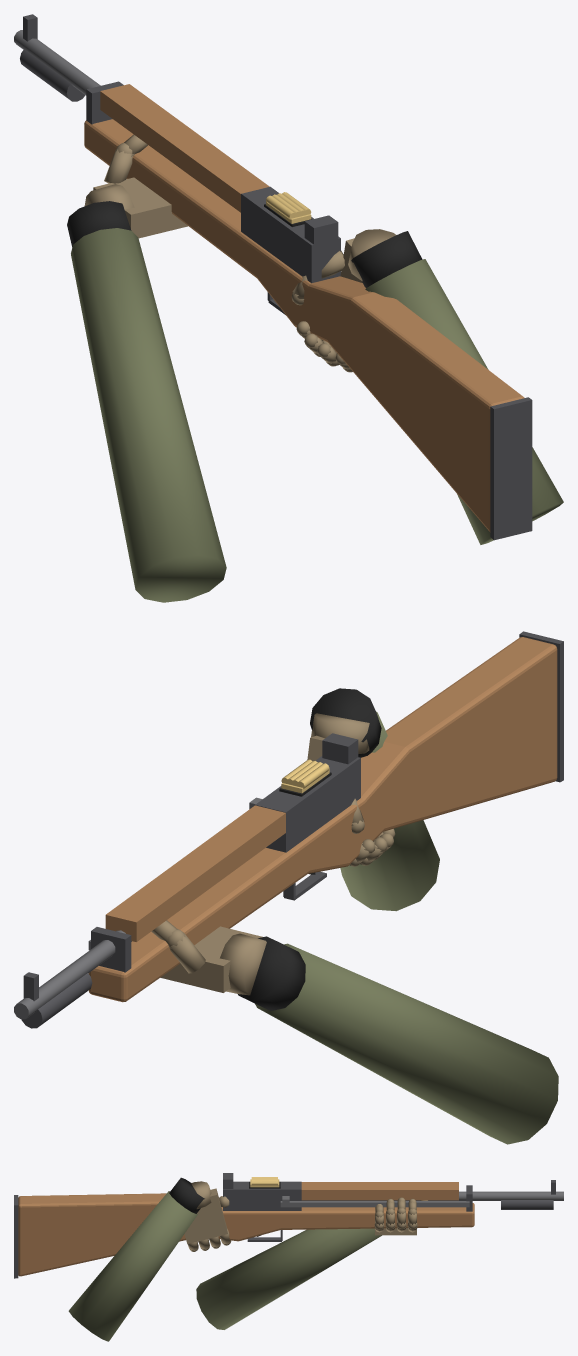
Rendered from m1garand.glb.
The picture shows the model from 3 angles, top to bottom: view 1: azimuth 30°, elevation 25°; view 2: azimuth 150°, elevation 25°; view 3: azimuth 270°, elevation 25°; orthographic projection. The views are drawn at different scales.
Parts seen in each view (by area): view 1: M1Garand_Body, M1Garand_HandLeft, M1Garand_HandRight, M1Garand_Clip; view 2: M1Garand_Body, M1Garand_HandLeft, M1Garand_HandRight, M1Garand_Clip; view 3: M1Garand_Body, M1Garand_HandRight, M1Garand_HandLeft, M1Garand_OpRod, M1Garand_Clip.
Part boxes in pixels (x1,y1,x2,y2): M1Garand_Body: (14,14,532,540); M1Garand_HandLeft: (67,134,226,602); M1Garand_HandRight: (291,229,563,544); M1Garand_Clip: (266,192,311,223); M1Garand_Body: (14,631,563,1028); M1Garand_HandLeft: (151,920,558,1144); M1Garand_HandRight: (307,688,439,911); M1Garand_Clip: (281,759,329,793); M1Garand_Body: (14,1173,563,1278); M1Garand_HandRight: (68,1177,231,1341); M1Garand_HandLeft: (196,1197,427,1329); M1Garand_OpRod: (280,1196,469,1207); M1Garand_Clip: (250,1177,279,1187).
Bounding box in the file's own units: 0.3818 × 0.4134 × 1.05.
